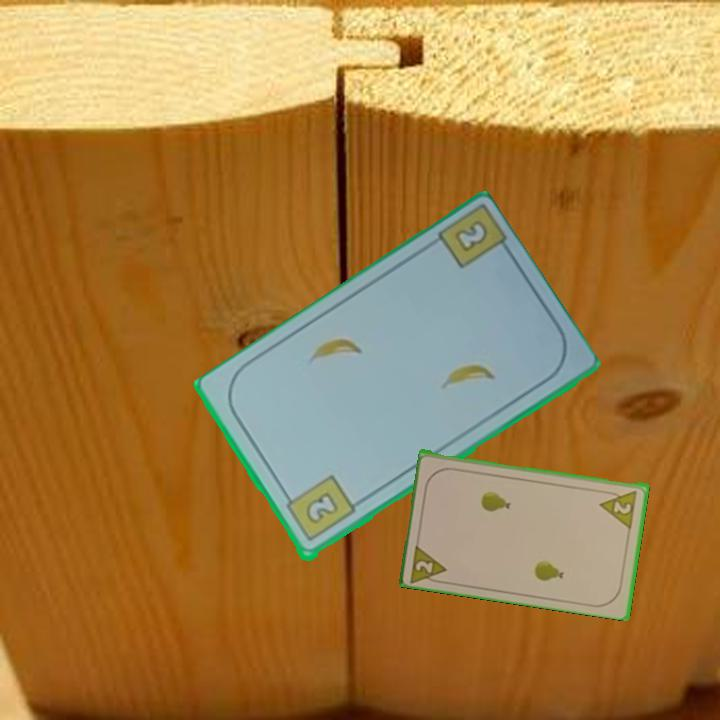2b: (280, 472, 358, 546), (450, 217, 491, 256)
2p: (407, 539, 451, 586), (597, 486, 640, 530)
